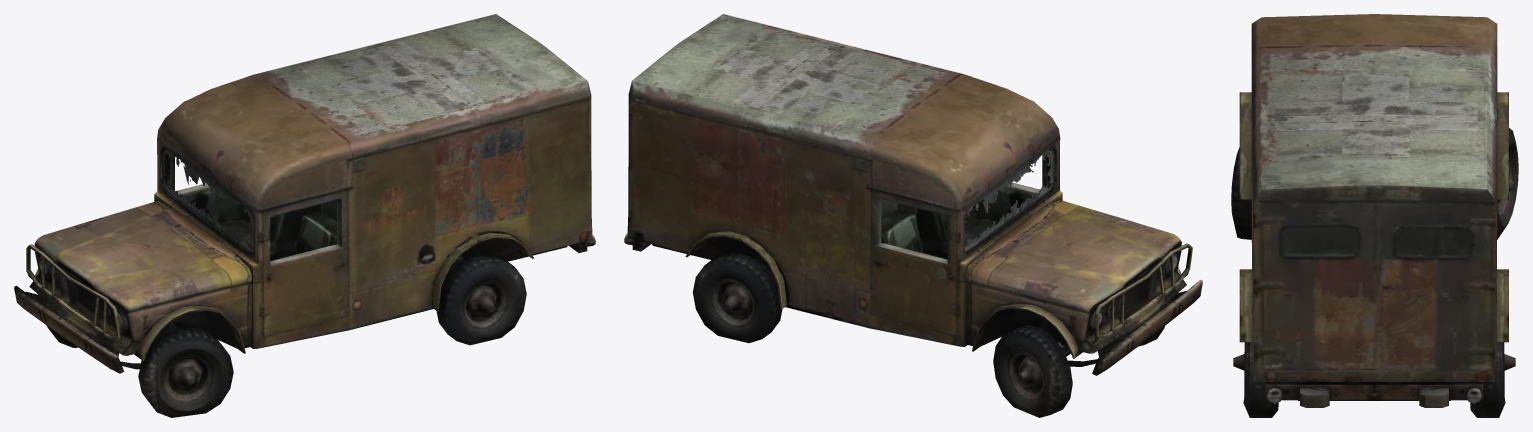
Rendered from truck_m725.glb.
3 views of the same model, side by side, from view 1: azimuth 30°, elevation 25°; view 2: azimuth 150°, elevation 25°; view 3: azimuth 270°, elevation 25° (orthographic). The views are drawn at different scales.
Parts seen in each view (by area): view 1: Object003_Material #24_0; view 2: Object003_Material #24_0; view 3: Object003_Material #24_0.
Boxes of the visible parts, bbox=[...] form: Object003_Material #24_0: bbox=[14, 14, 595, 417]; Object003_Material #24_0: bbox=[624, 14, 1202, 417]; Object003_Material #24_0: bbox=[1231, 14, 1518, 417].
Size of the model in its own units: 164 by 73.72 by 66.77.
1 material, 1 textured.
